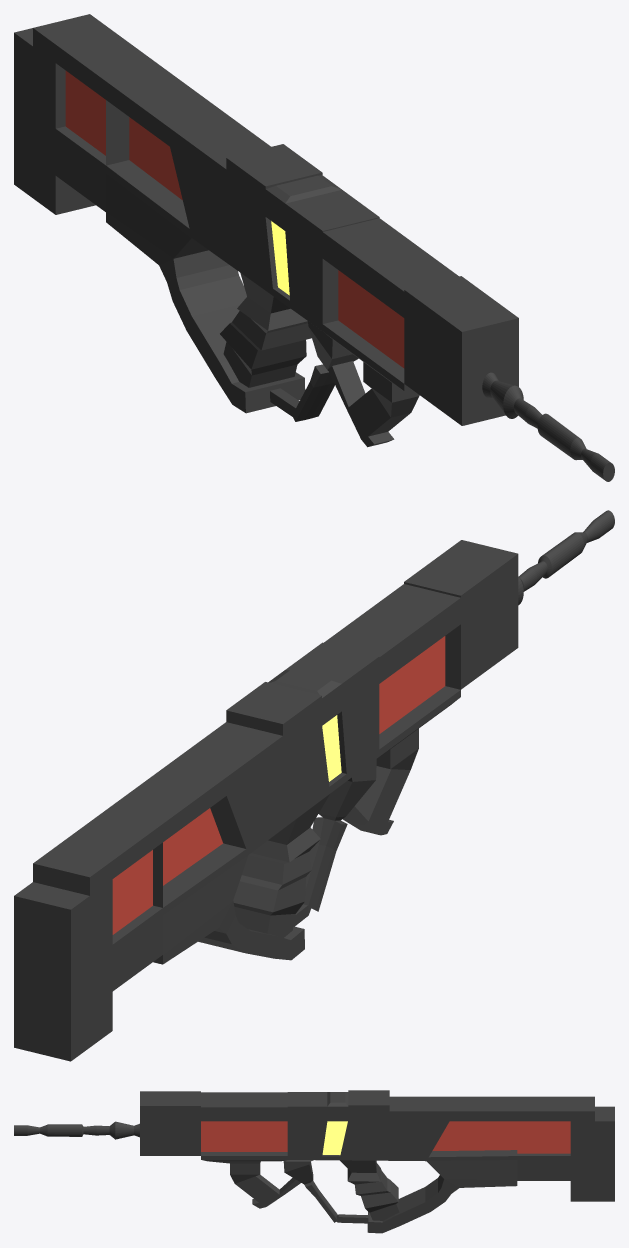
Rendered from `rd gun.fbx.
The picture shows the model from 3 angles, top to bottom: view 1: azimuth 30°, elevation 25°; view 2: azimuth 150°, elevation 25°; view 3: azimuth 270°, elevation 25°; orthographic projection. The views are drawn at different scales.
Parts seen in each view (by area): view 1: Cube; view 2: Cube; view 3: Cube.
Part boxes in pixels (bbox=[...]): Cube: bbox=[14, 14, 614, 481]; Cube: bbox=[14, 510, 614, 1061]; Cube: bbox=[14, 1090, 614, 1233].
Bounding box in the file's own units: 51.9 × 200 × 849.
